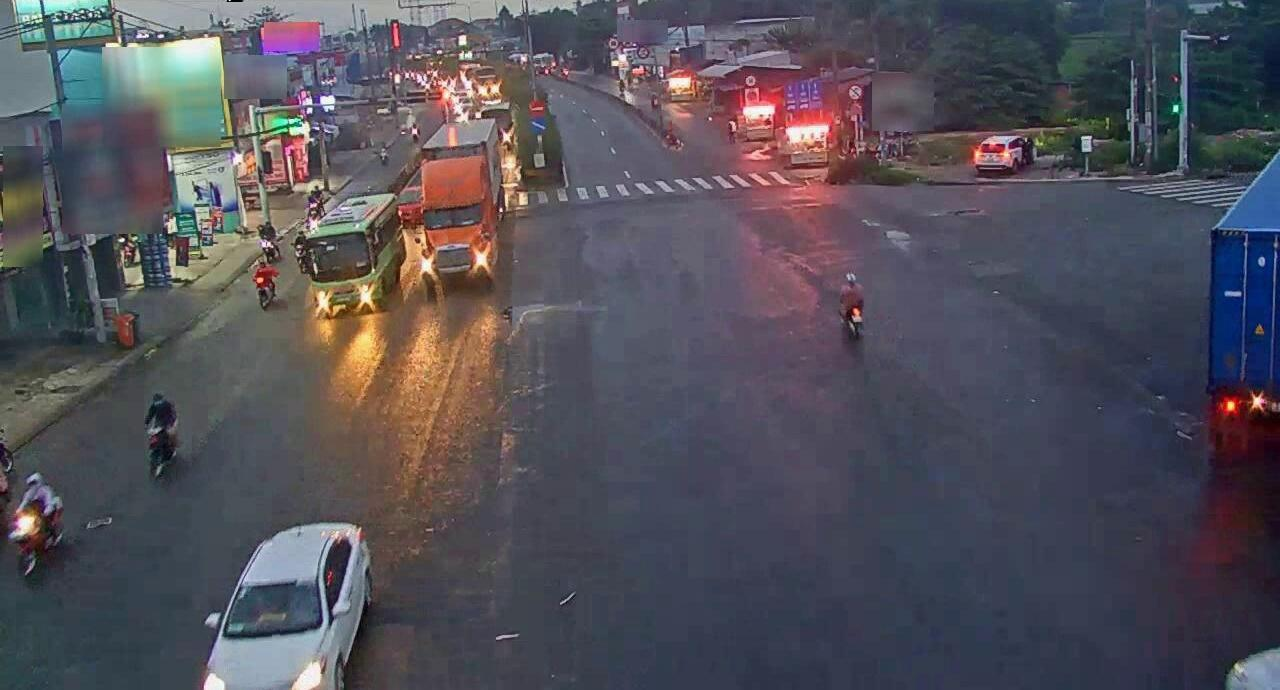xe buyt: (308, 187, 402, 313)
xe container: (416, 117, 506, 290)
xe hoi: (206, 527, 384, 690)
xe may: (5, 468, 70, 578), (140, 389, 181, 475), (834, 266, 869, 338)
